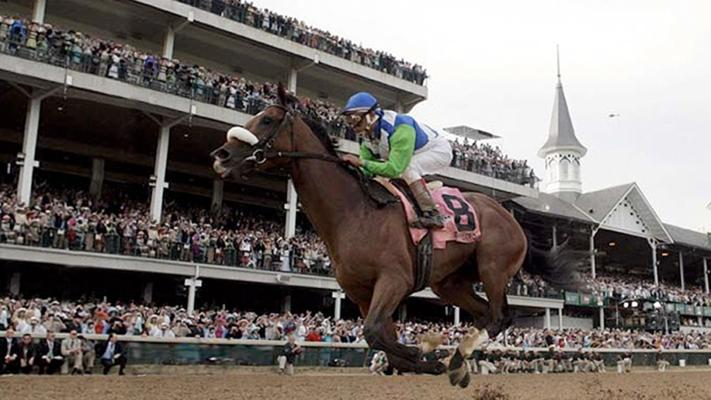person: (334, 91, 455, 232)
